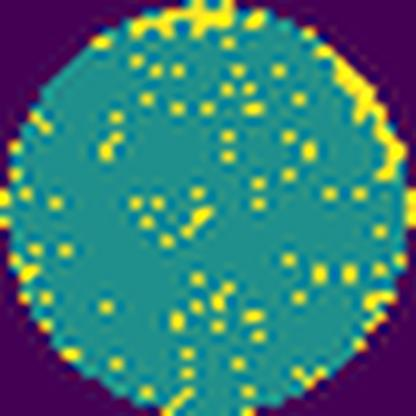Edge-Loc: (316, 42, 410, 182), (126, 0, 235, 42)
